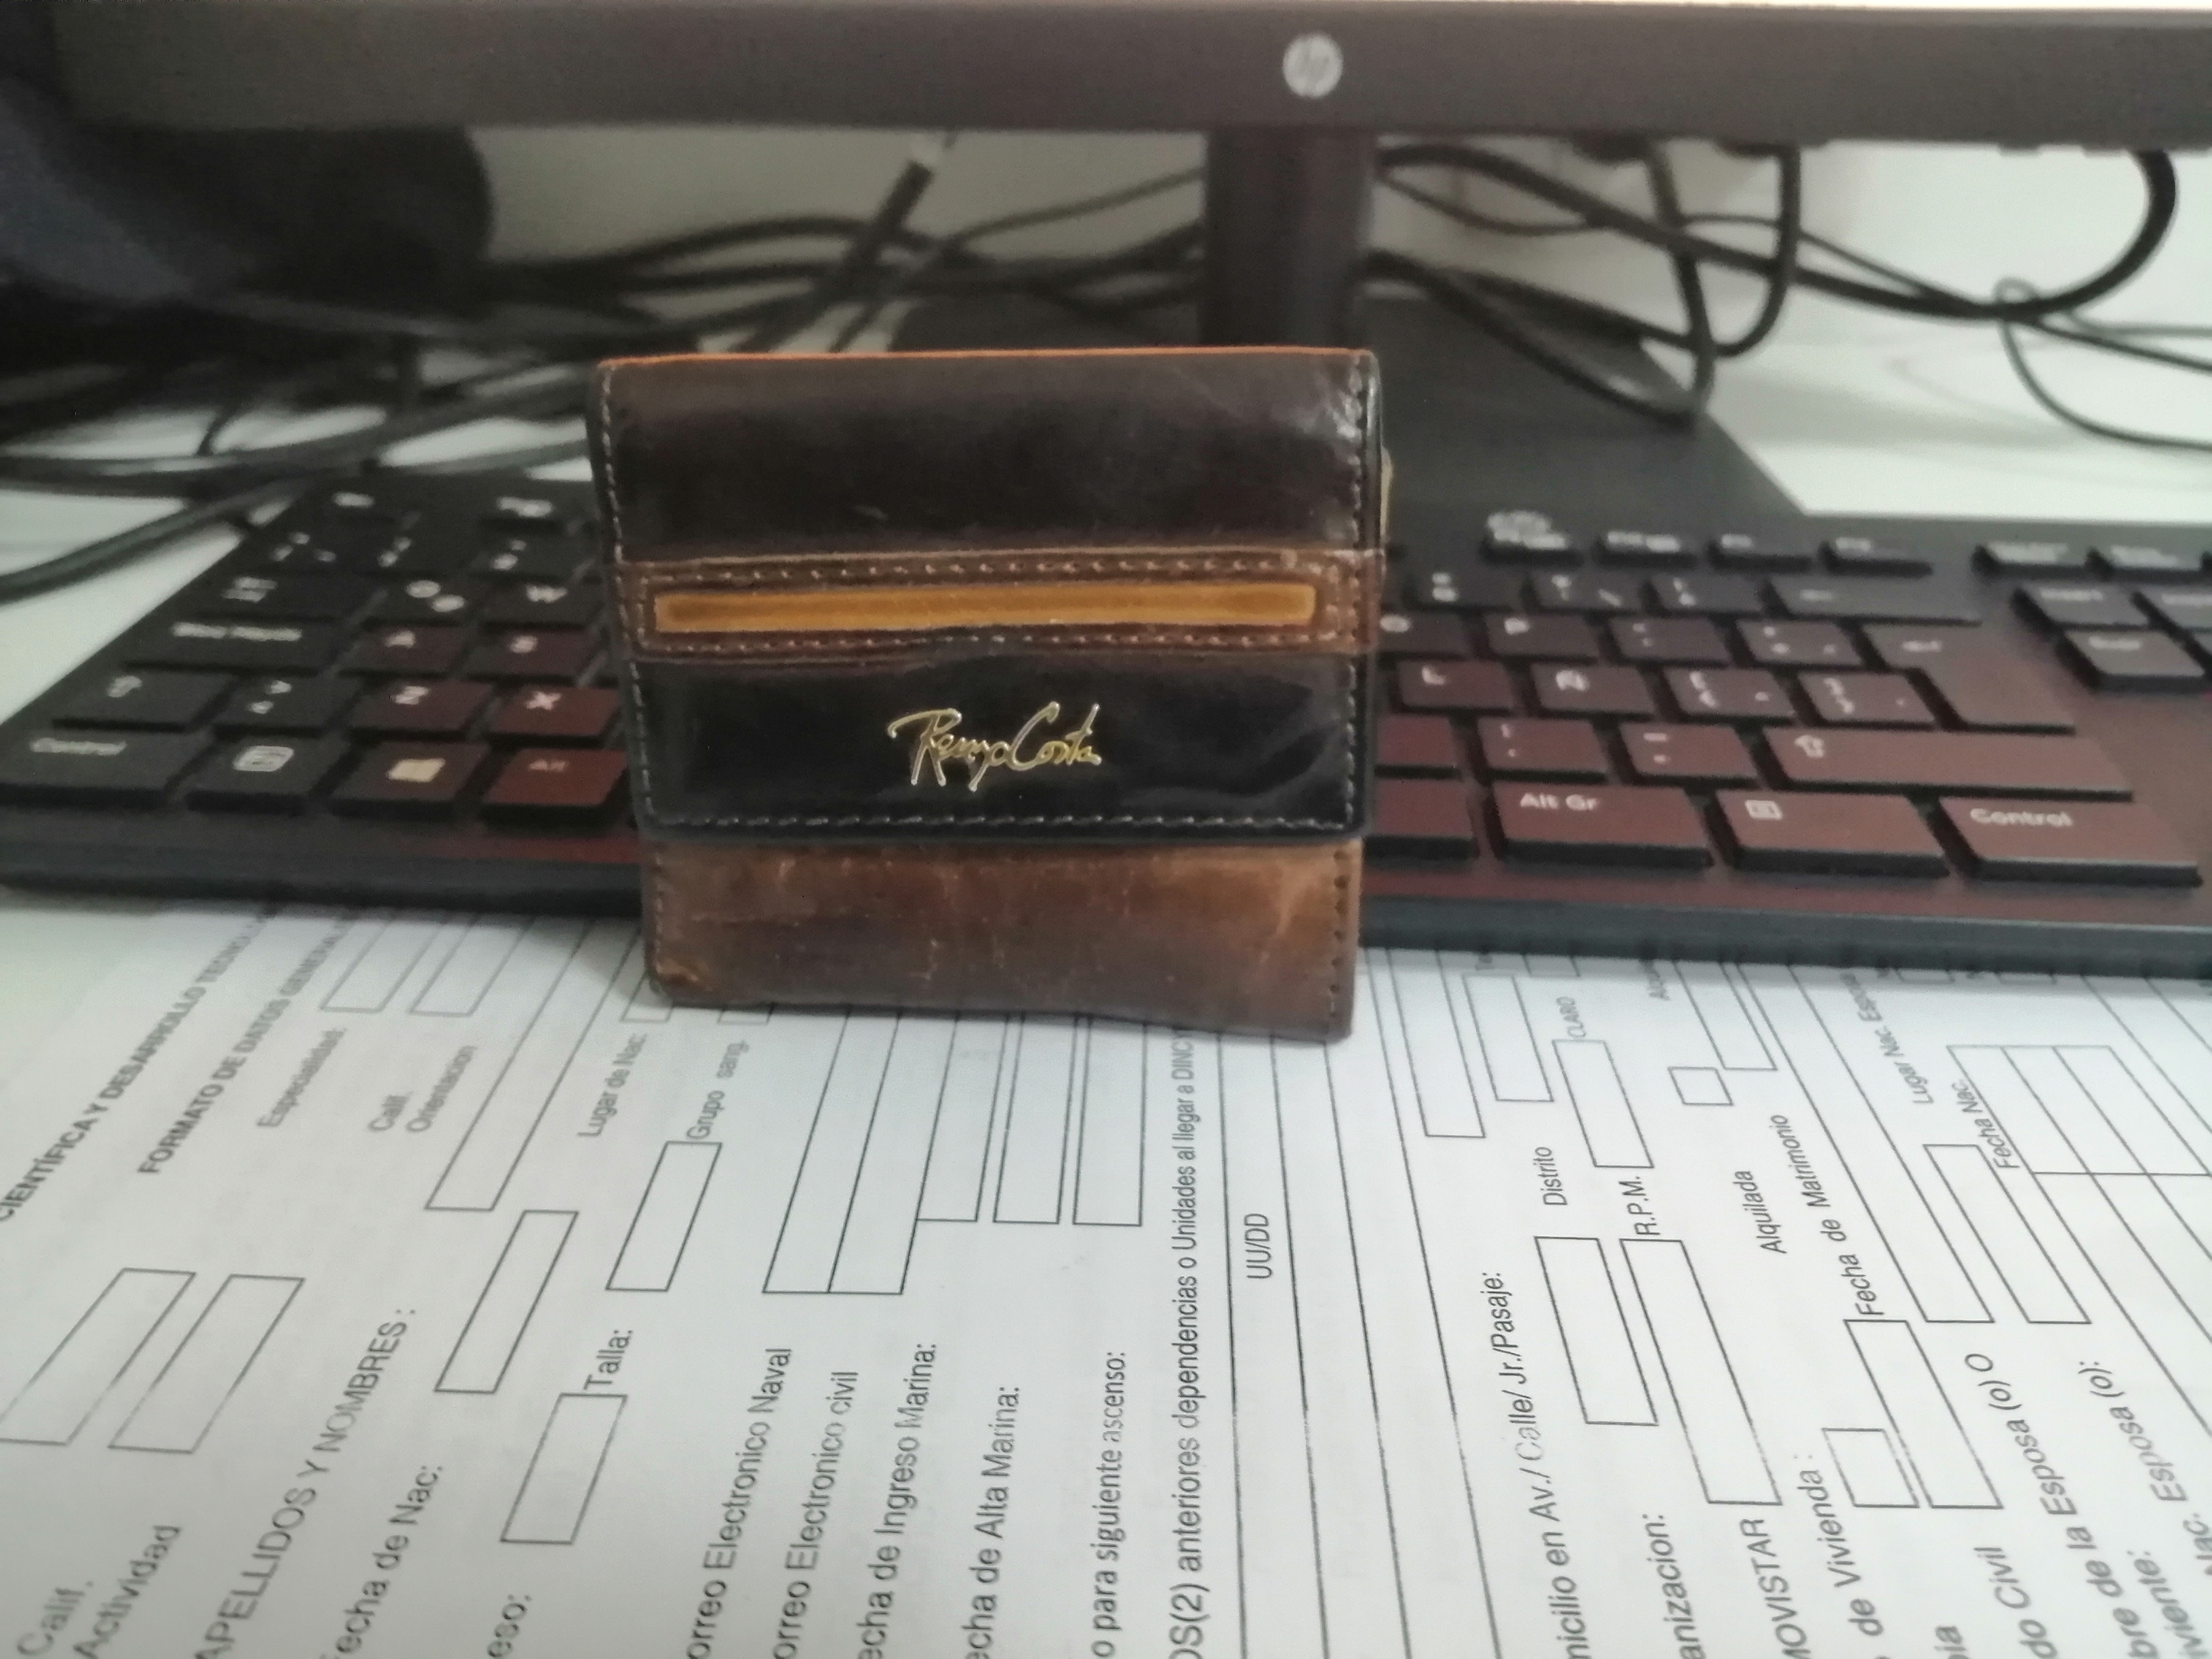monedero: (570, 331, 1392, 1061)
